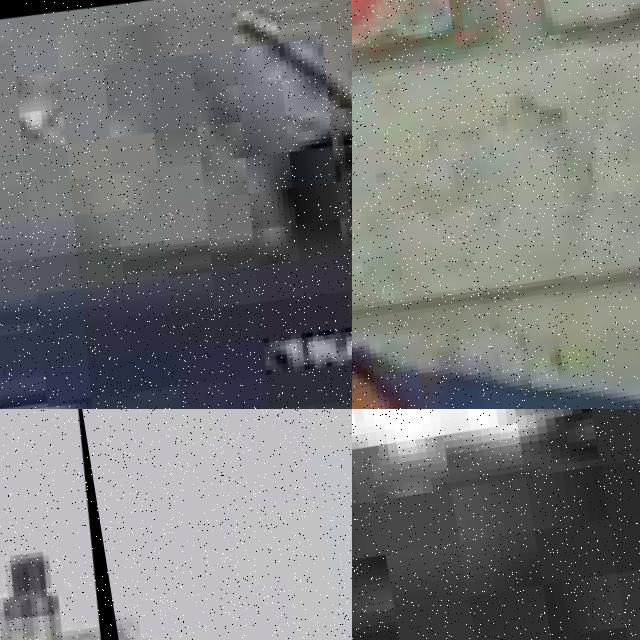drone: (0, 0, 352, 409), (0, 409, 170, 640)
